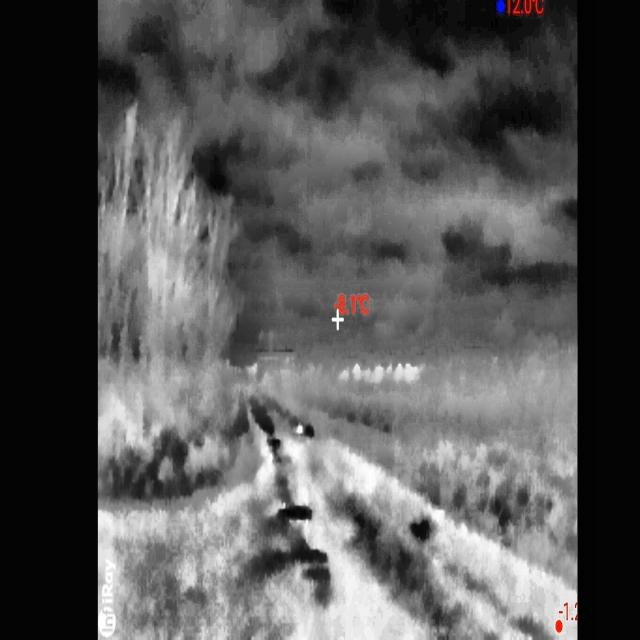drone: (296, 421, 305, 438)
